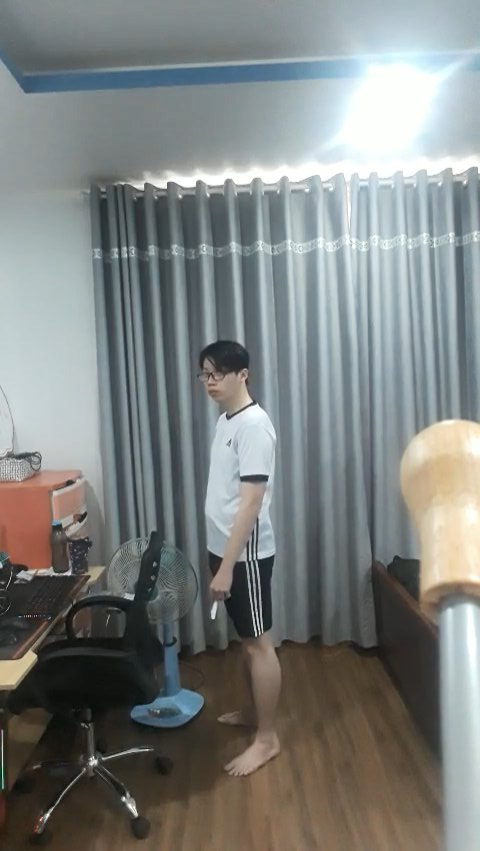cigarette: (209, 599, 219, 622)
person: (182, 333, 304, 795)
